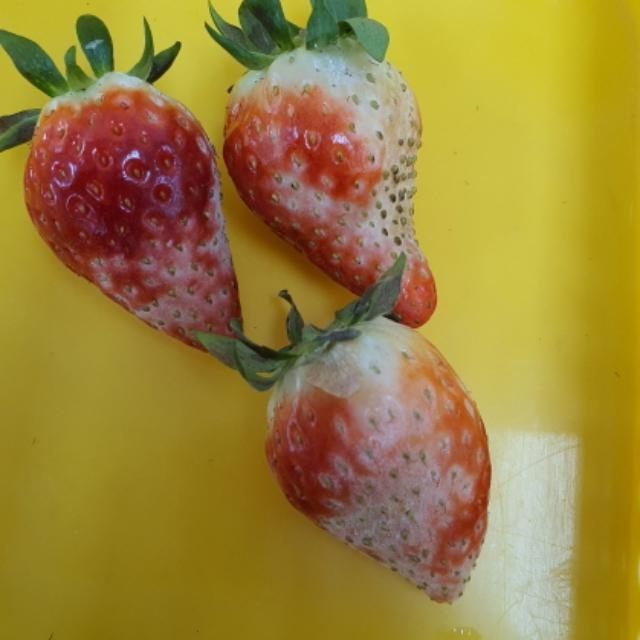Powdery Mildew Fruit: (264, 315, 492, 604), (221, 36, 438, 330), (22, 73, 242, 354)
